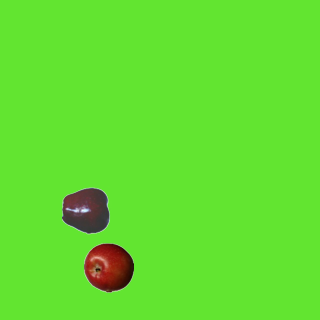Apple Braeburn: (83, 242, 133, 292)
Apple Red Delicious: (61, 185, 111, 235)
